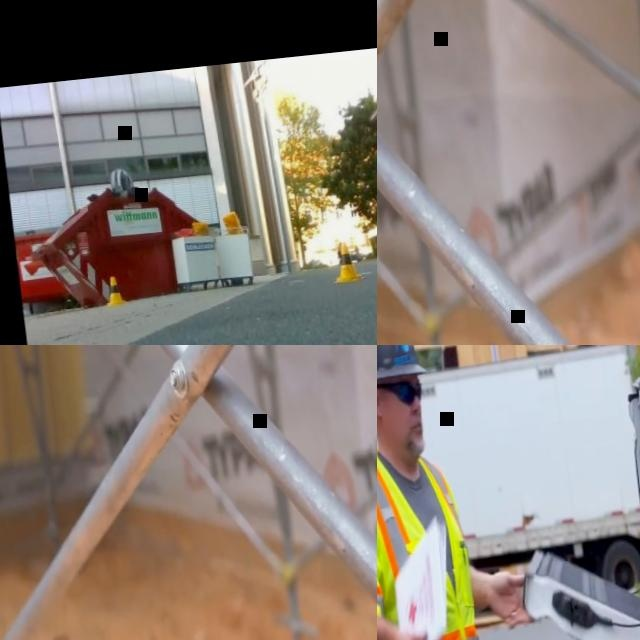Hardhat: (377, 345, 425, 384)
NO-Mask: (382, 412, 426, 457)
Person: (377, 345, 555, 640)
Safety Cone: (329, 242, 363, 282), (102, 276, 124, 306)
Safety Vest: (377, 440, 504, 640)
vehicle: (494, 345, 640, 640)
